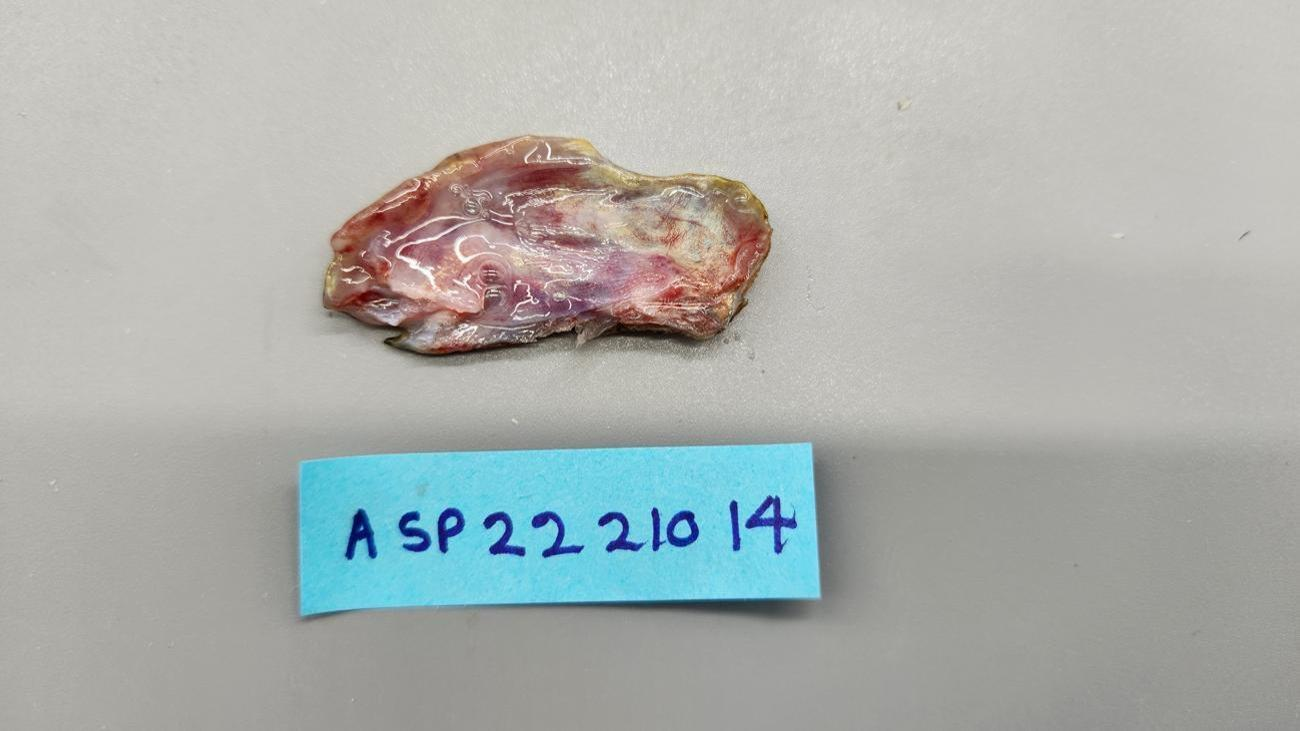SPGCH: (421, 336, 487, 354)
